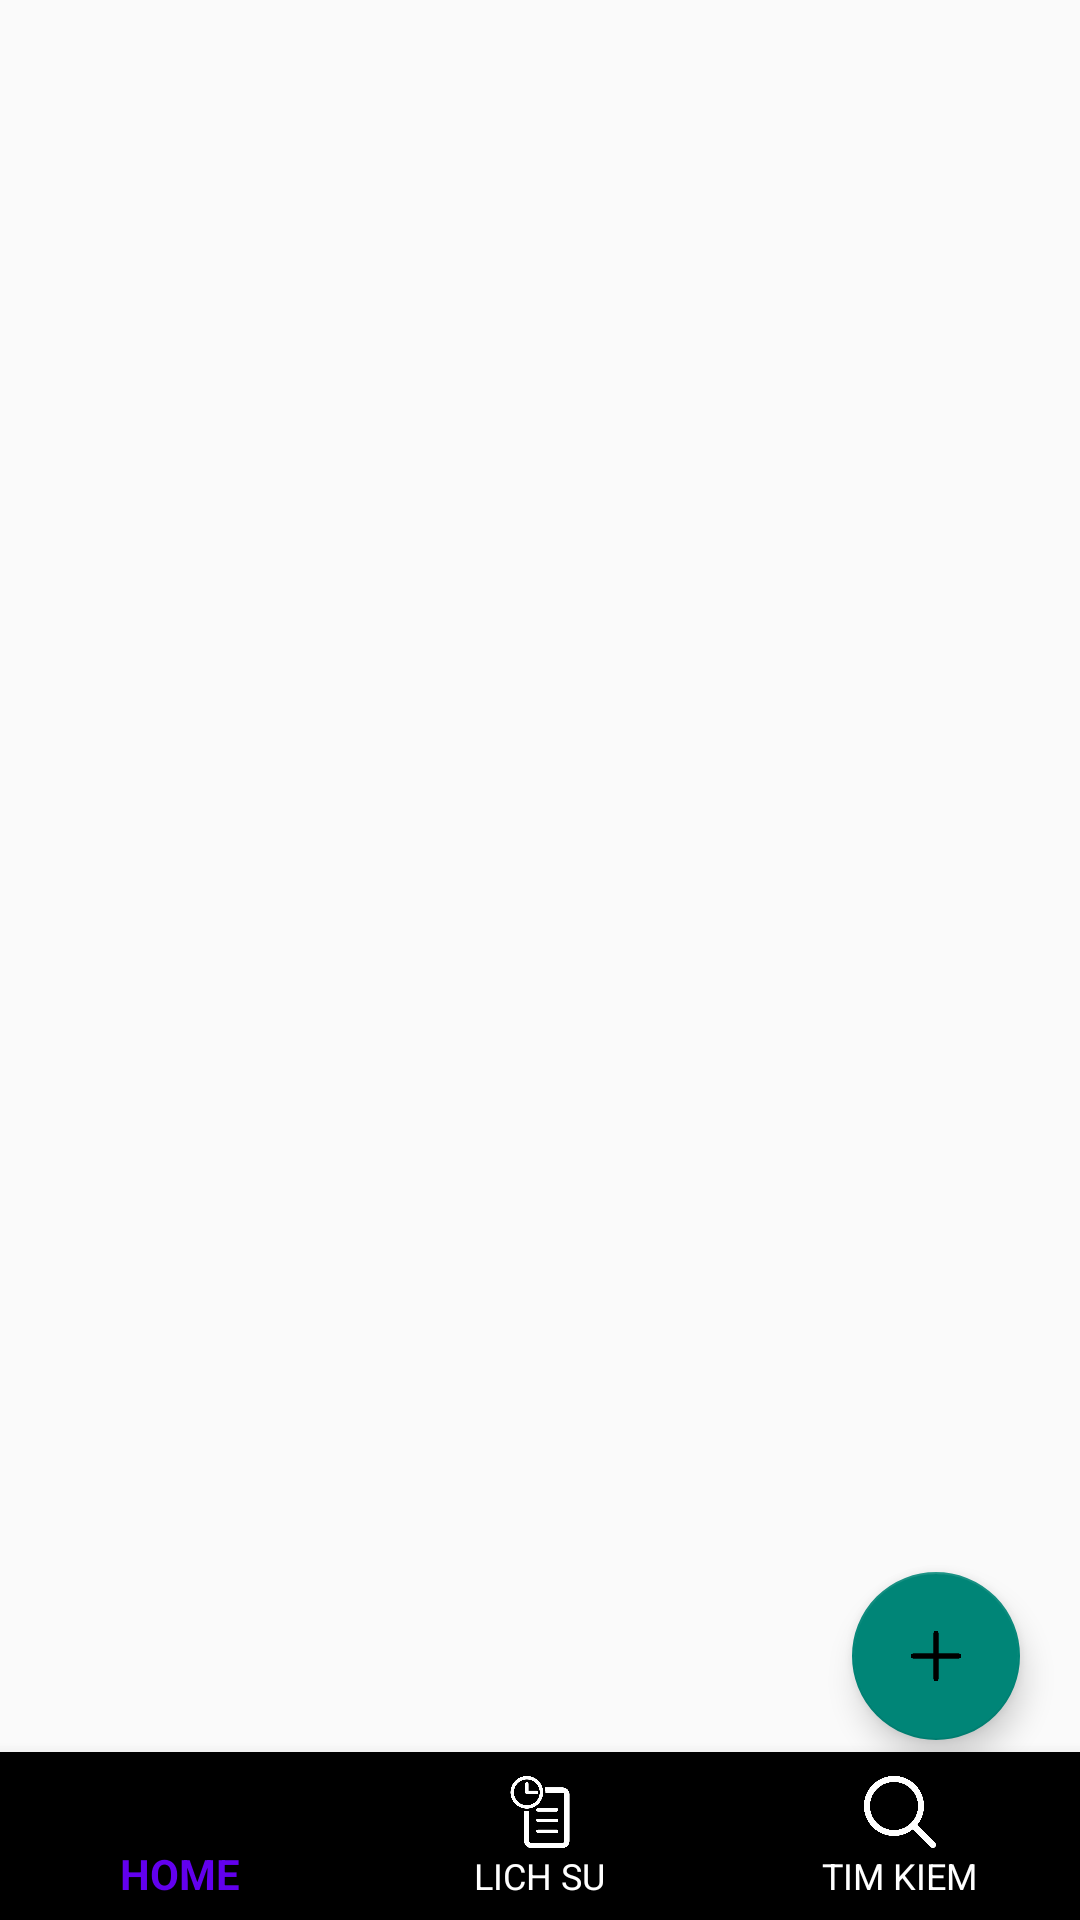

Named icons in this screenshot (1080px x 1920px) and their centers, [x,y]:
add: [936,1656]
